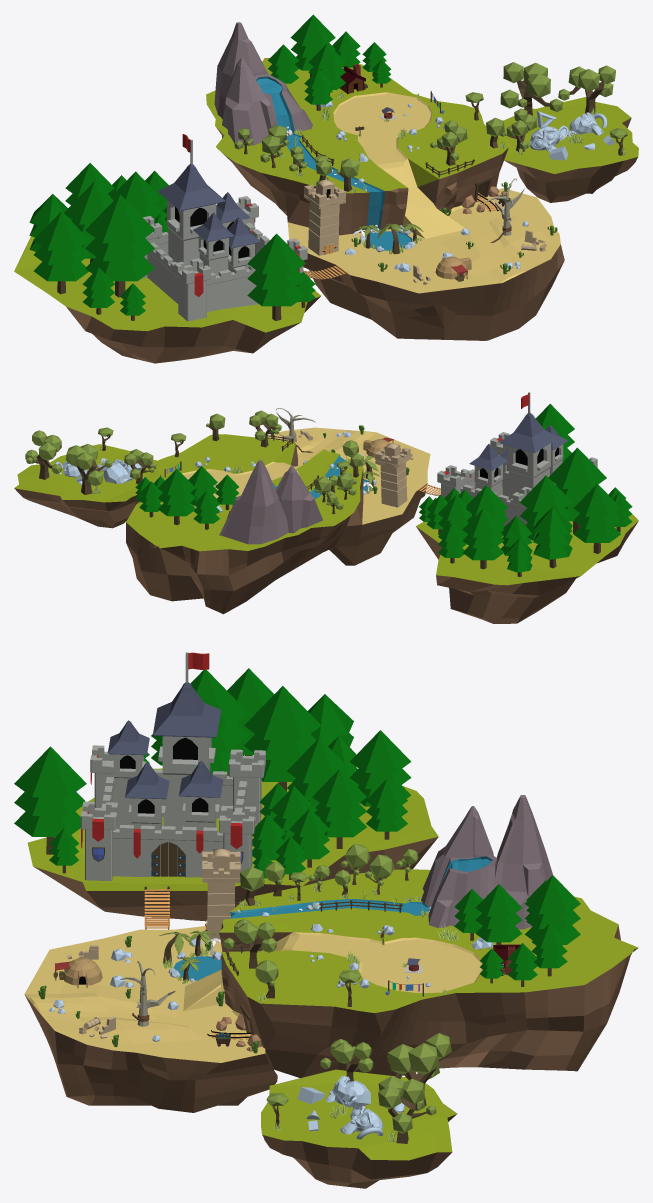
Rendered from 3d_low_poly_island.glb.
The picture shows the model from 3 angles, top to bottom: view 1: azimuth 30°, elevation 25°; view 2: azimuth 150°, elevation 25°; view 3: azimuth 270°, elevation 25°; orthographic projection. The views are drawn at different scales.
Parts seen in each view (by area): view 1: Ilha, Ilha 03, Ilha 02, Torres Castelo, Montanha, Muro castelo, object 141, object 145, object 144, Torre, object 116, object 115 (+18 smaller); view 2: Ilha, Ilha 03, Montanha, Ilha 02, Torres Castelo, object 144, object 141, Muro castelo, Torre, object 136, object 139, object 138 (+20 smaller); view 3: Ilha, Ilha 02, Muro castelo, Torres Castelo, Ilha 03, Montanha, object 145, object 138, object 132, object 136, Torre, object 141 (+23 smaller).
Part boxes in pixels (box(x1,y1,x2,y2)): Ilha: box(206, 58, 564, 340); Ilha 03: box(14, 236, 320, 363); Ilha 02: box(498, 97, 638, 202); Torres Castelo: box(157, 134, 260, 275); Montanha: box(214, 22, 312, 145); Muro castelo: box(142, 196, 307, 321); object 141: box(85, 194, 154, 297); object 145: box(247, 233, 305, 320); object 144: box(33, 211, 89, 294); Torre: box(304, 179, 345, 255); object 116: box(500, 62, 562, 115); object 115: box(558, 65, 615, 113); Ilha: box(126, 427, 430, 614); Ilha 03: box(416, 487, 638, 623); Montanha: box(219, 460, 322, 544); Ilha 02: box(14, 444, 159, 528); Torres Castelo: box(469, 392, 568, 499); object 144: box(573, 483, 620, 553); object 141: box(548, 447, 606, 533); Muro castelo: box(437, 432, 597, 540); Torre: box(375, 443, 410, 507); object 136: box(462, 508, 504, 569); object 139: box(533, 507, 572, 568); object 138: box(520, 475, 572, 540); Ilha: box(24, 869, 638, 1112); Ilha 02: box(261, 1069, 457, 1188); Muro castelo: box(81, 745, 265, 881); Torres Castelo: box(107, 652, 223, 830); Ilha 03: box(27, 768, 438, 921); Montanha: box(421, 795, 552, 929); object 145: box(14, 746, 86, 854); object 138: box(244, 686, 321, 791); object 132: box(312, 769, 366, 848); object 136: box(350, 730, 411, 806); Torre: box(202, 849, 241, 939); object 141: box(190, 669, 248, 775).
Bounding box in the file's own units: 186 × 64.08 × 126.
